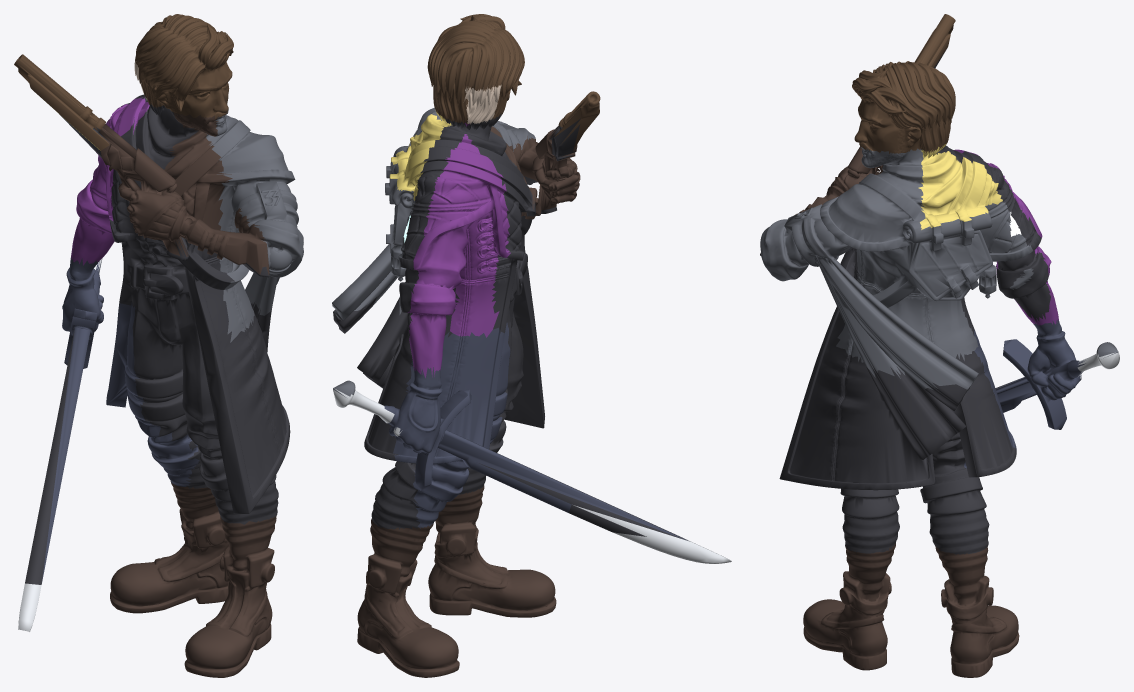
Rendered from Gustave.fbx.
3 renders of one model, left to right at view 1: azimuth 30°, elevation 25°; view 2: azimuth 150°, elevation 25°; view 3: azimuth 270°, elevation 25°, orthographic. The views are drawn at different scales.
Visible parts, largest first — view 1: Gustave; view 2: Gustave; view 3: Gustave.
Part boxes in pixels (left/top/right/bottom): Gustave: left=14, top=14, right=303, bottom=677; Gustave: left=332, top=14, right=731, bottom=677; Gustave: left=760, top=14, right=1119, bottom=677.
Size of the model in its own units: 101 by 182 by 102.
